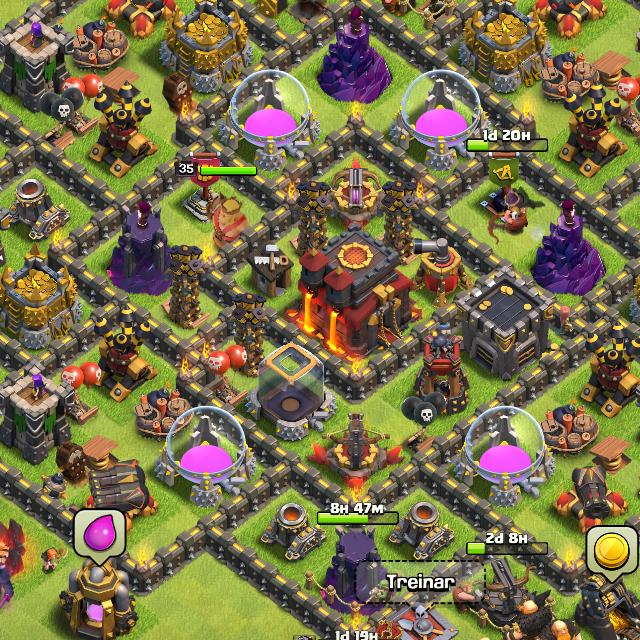Elixir: (73, 509, 129, 568)
coin: (587, 526, 635, 582)
